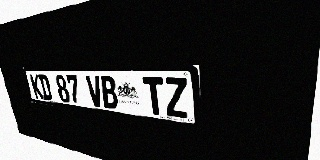7: (65, 75, 82, 104)
8: (54, 75, 71, 103)
B: (99, 76, 119, 109)
D: (38, 75, 53, 101)
K: (30, 74, 44, 99)
T: (142, 77, 166, 116)
V: (85, 76, 104, 107)
Z: (163, 77, 189, 119)
